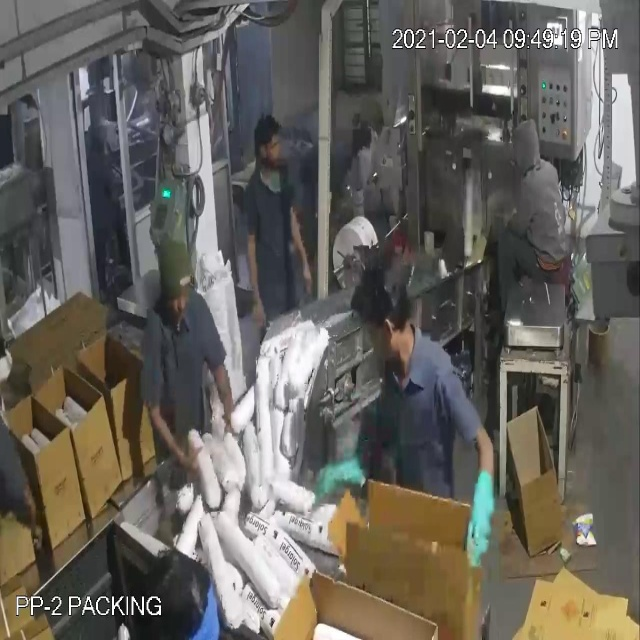Guantes: (454, 456, 505, 579), (305, 440, 374, 525)
Sin_guantes: (128, 397, 210, 486), (281, 193, 323, 300), (238, 224, 274, 341), (206, 351, 239, 443)
